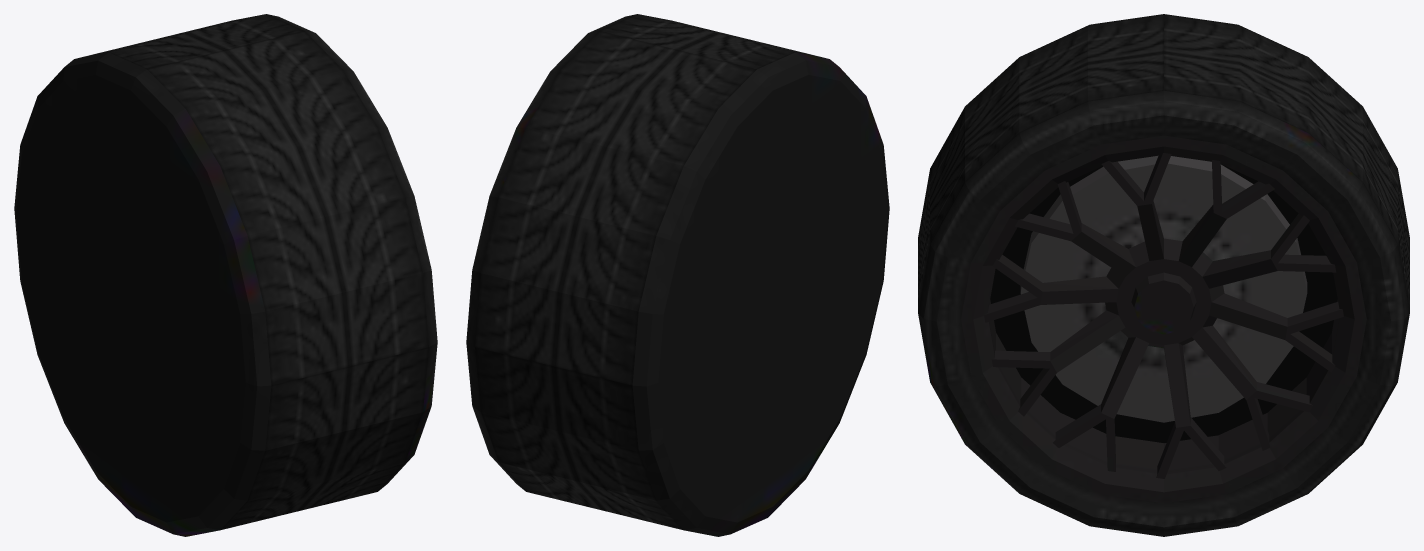
Rendered from car_tyre.glb.
3 renders of one model, left to right at view 1: azimuth 30°, elevation 25°; view 2: azimuth 150°, elevation 25°; view 3: azimuth 270°, elevation 25°, orthographic.
Visible parts, largest first — view 1: Lamborghini_Aventador_Wheel_FL; view 2: Lamborghini_Aventador_Wheel_FL; view 3: Lamborghini_Aventador_Wheel_FL.
Part boxes in pixels (x1,y1,x2,y2): Lamborghini_Aventador_Wheel_FL: (14,14,437,536); Lamborghini_Aventador_Wheel_FL: (466,14,889,536); Lamborghini_Aventador_Wheel_FL: (918,14,1409,536).
Bounding box in the file's own units: 30.5 × 69.12 × 69.12.
1 material, 1 textured.
